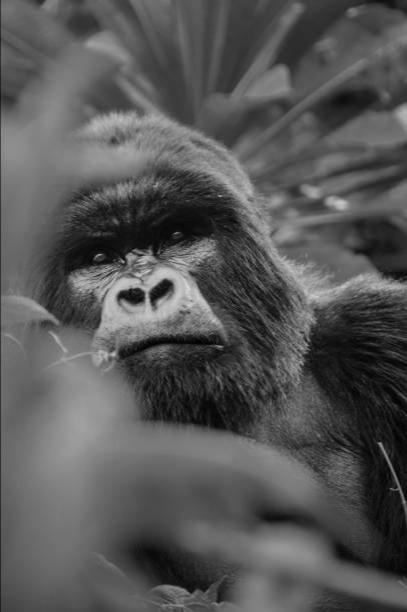goriile_montagne: (48, 108, 407, 505)
